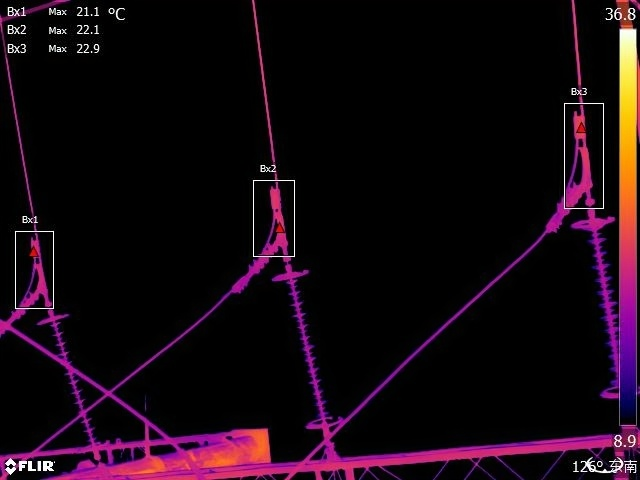insulator: (274, 250, 349, 434), (38, 304, 104, 450), (575, 198, 621, 401)
tube: (226, 223, 286, 300), (542, 169, 591, 240), (1, 281, 44, 349)
